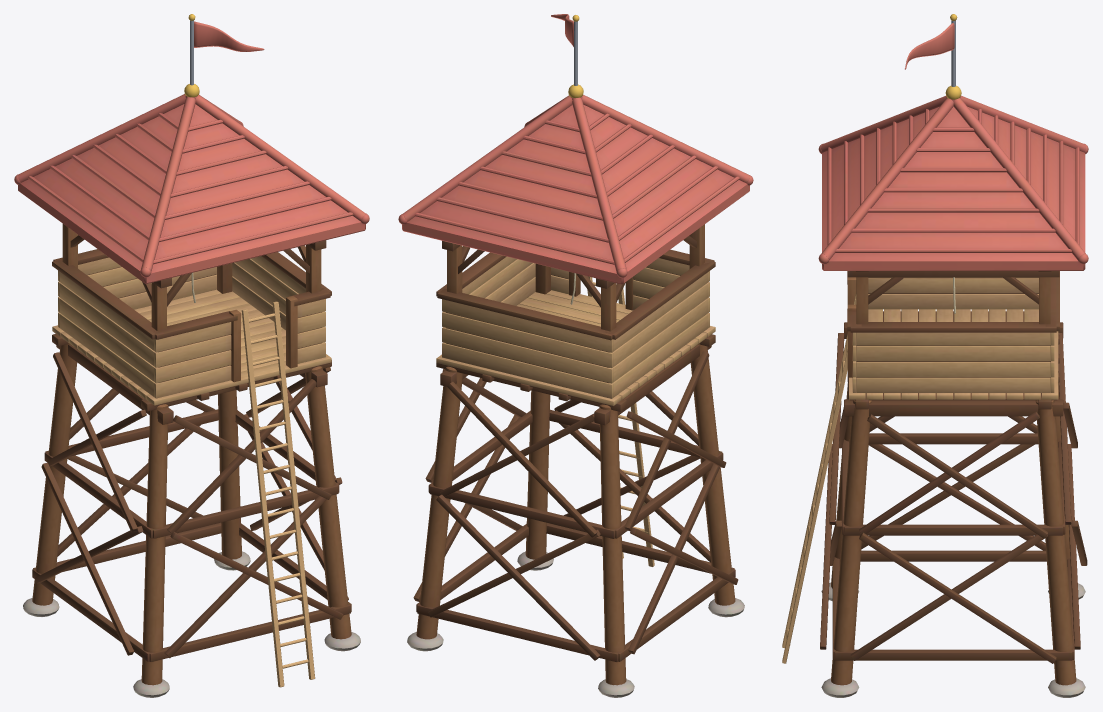
The model's file is wooden-watchtower.glb.
3 renders of one model, left to right at view 1: azimuth 30°, elevation 25°; view 2: azimuth 150°, elevation 25°; view 3: azimuth 270°, elevation 25°, orthographic. The views are drawn at different scales.
Visible parts, largest first — view 1: wooden-watchtower_body, wooden-watchtower_details, wooden-watchtower_pennant; view 2: wooden-watchtower_body, wooden-watchtower_details; view 3: wooden-watchtower_body, wooden-watchtower_details, wooden-watchtower_pennant.
Boxes of the visible parts, box(x1,y1,x2,y2) form: wooden-watchtower_body: box(14, 94, 369, 697); wooden-watchtower_details: box(184, 14, 315, 687); wooden-watchtower_pennant: box(194, 21, 264, 51); wooden-watchtower_body: box(398, 94, 753, 697); wooden-watchtower_details: box(568, 15, 654, 566); wooden-watchtower_body: box(818, 95, 1088, 697); wooden-watchtower_details: box(782, 14, 961, 663); wooden-watchtower_pennant: box(905, 23, 954, 69).
Size of the model in its own units: 3.7 by 9.55 by 4.19.
Materials: 7 (1 with a texture image).
